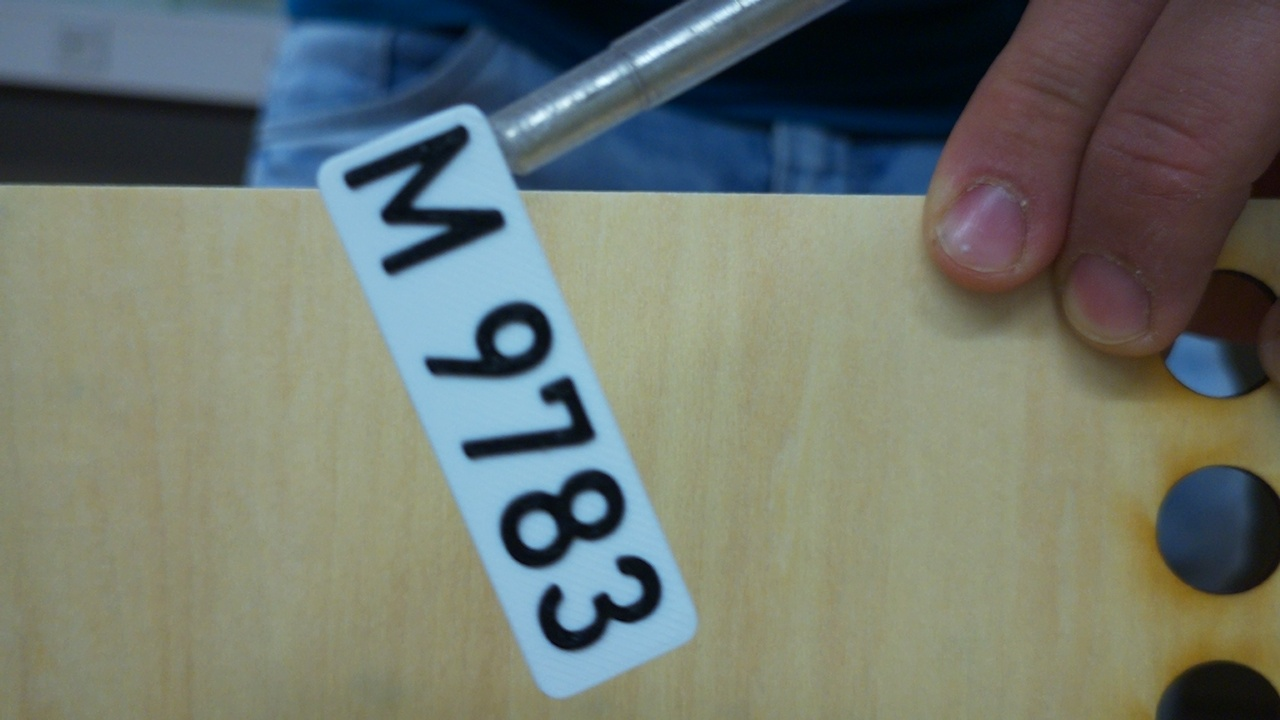license_plate: (313, 99, 703, 702)
